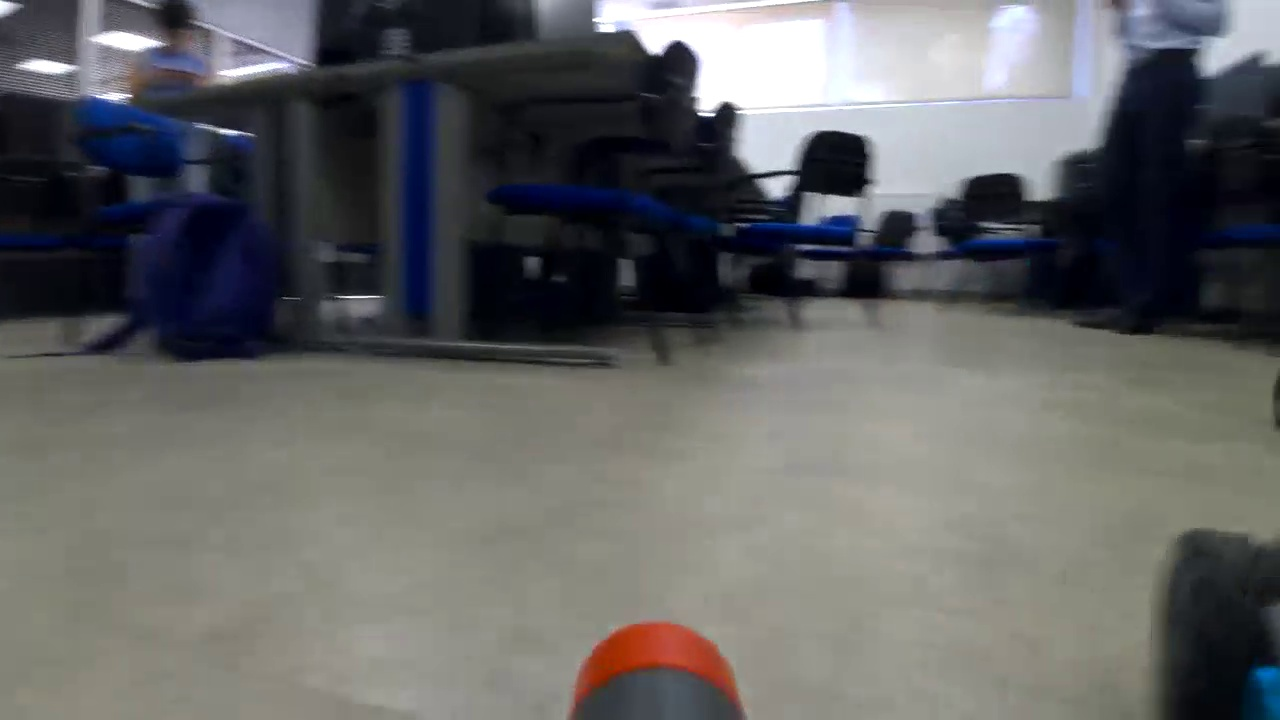robot: (1135, 502, 1280, 720)
